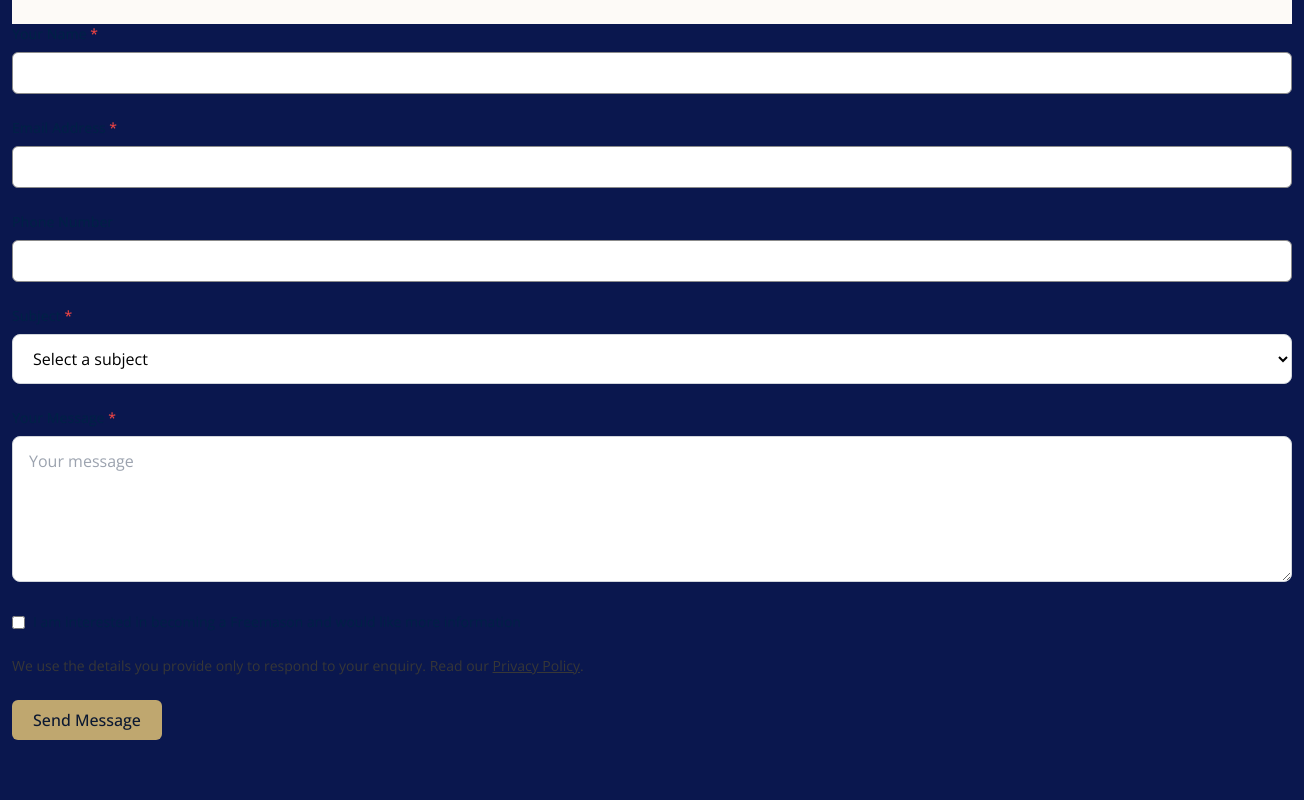
Test: ContactForm › submits form and shows success message
Type "John Doe" into the field labelled "Your Name *". click: (652, 73)
box: 12,52 -> 1292,94
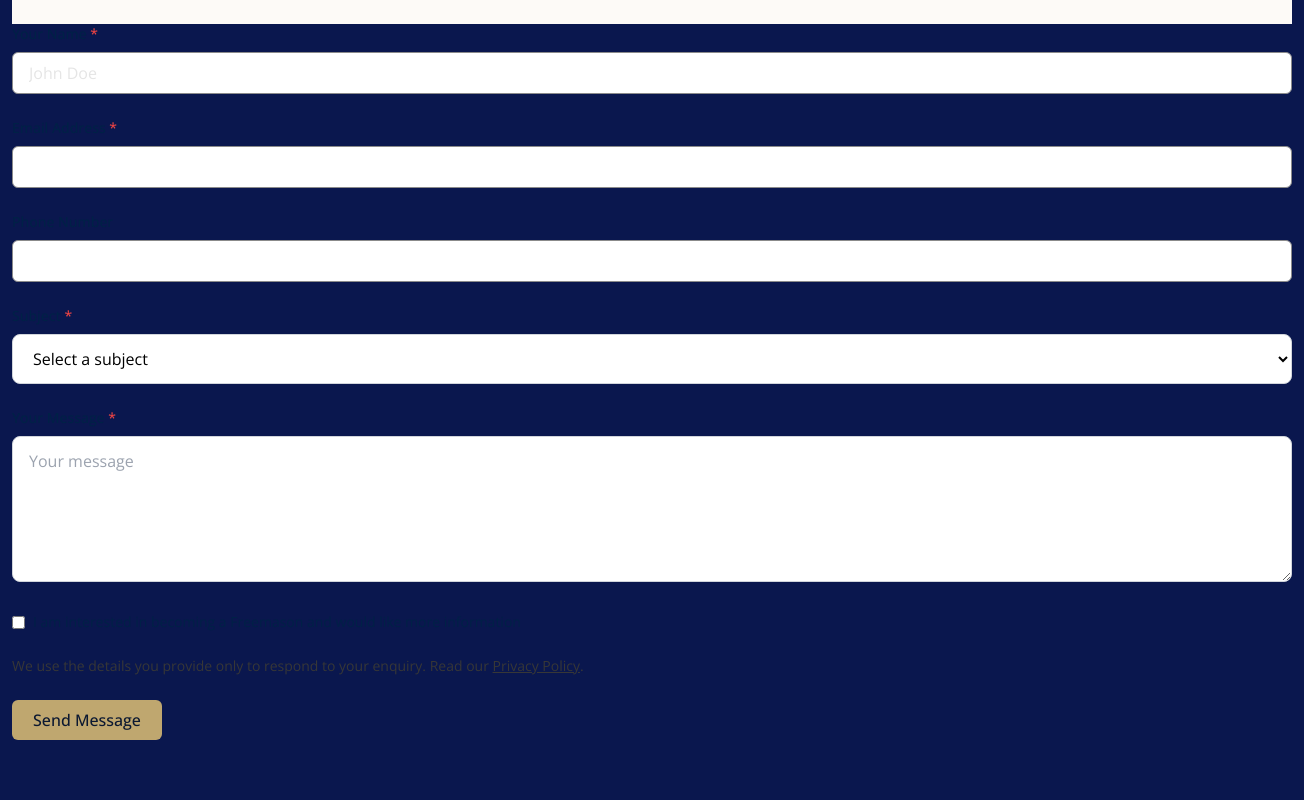
Type "john@example.com" into the field labelled "Email Address *". click: (652, 167)
box: 12,146 -> 1292,188
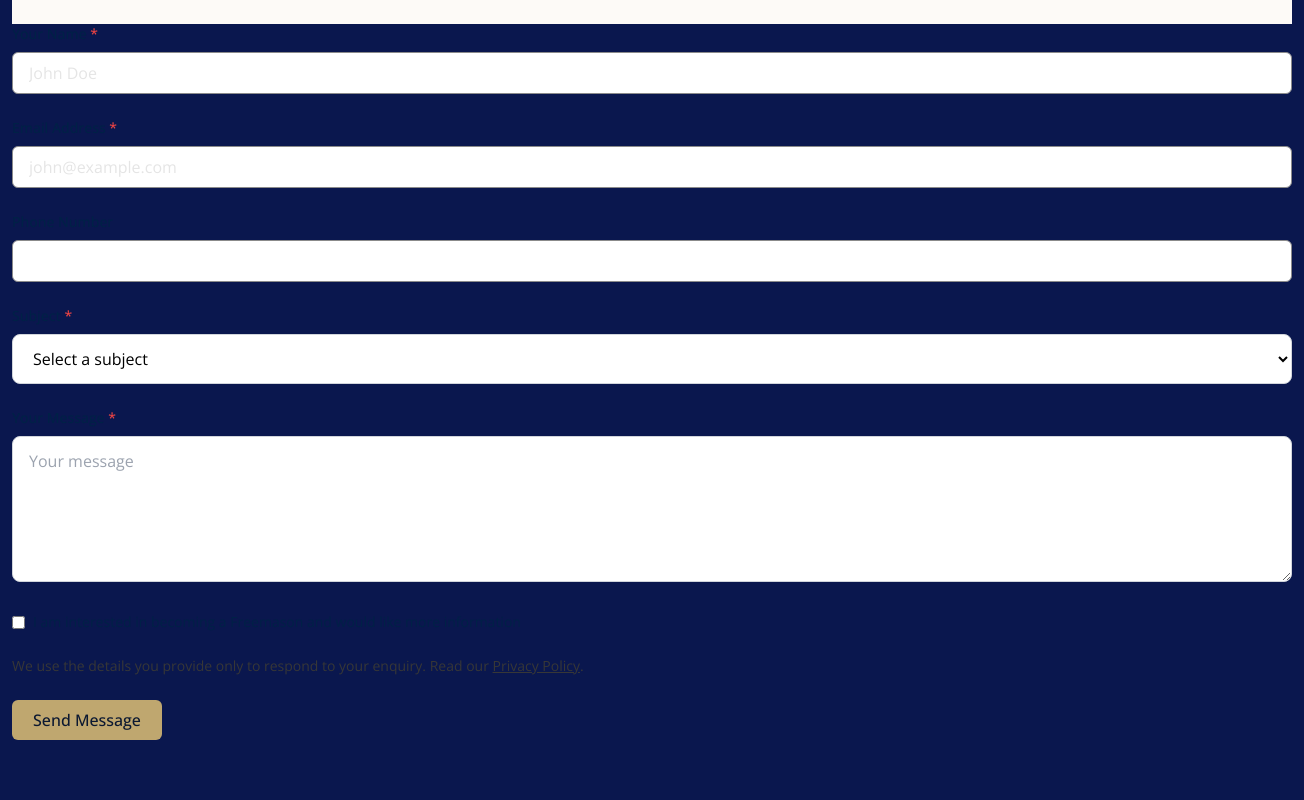
Select "General Enquiry" in the dropdown labelled "Subject *". click: (652, 359)
box: 12,334 -> 1292,384
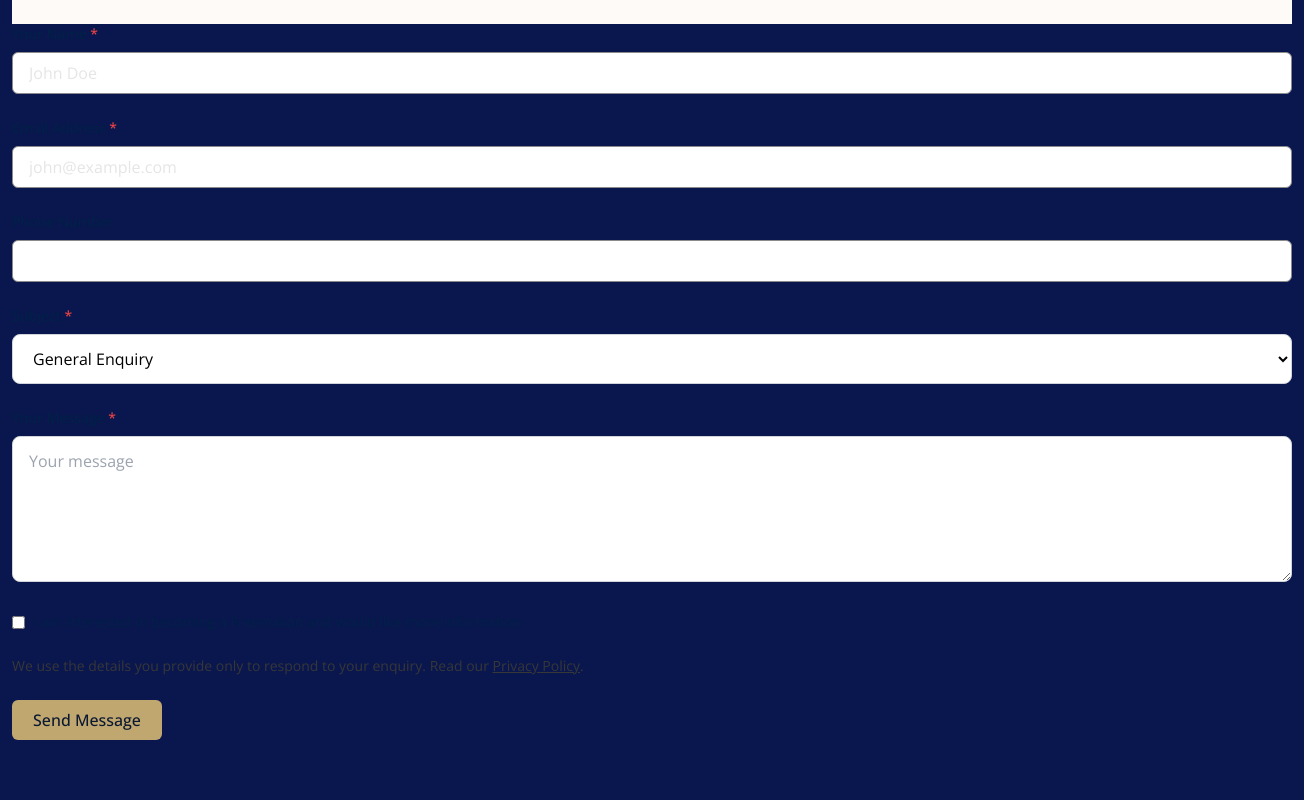
Type "Hello there!" into the text box labelled "Your Message *". click: (652, 509)
box: 12,436 -> 1292,582
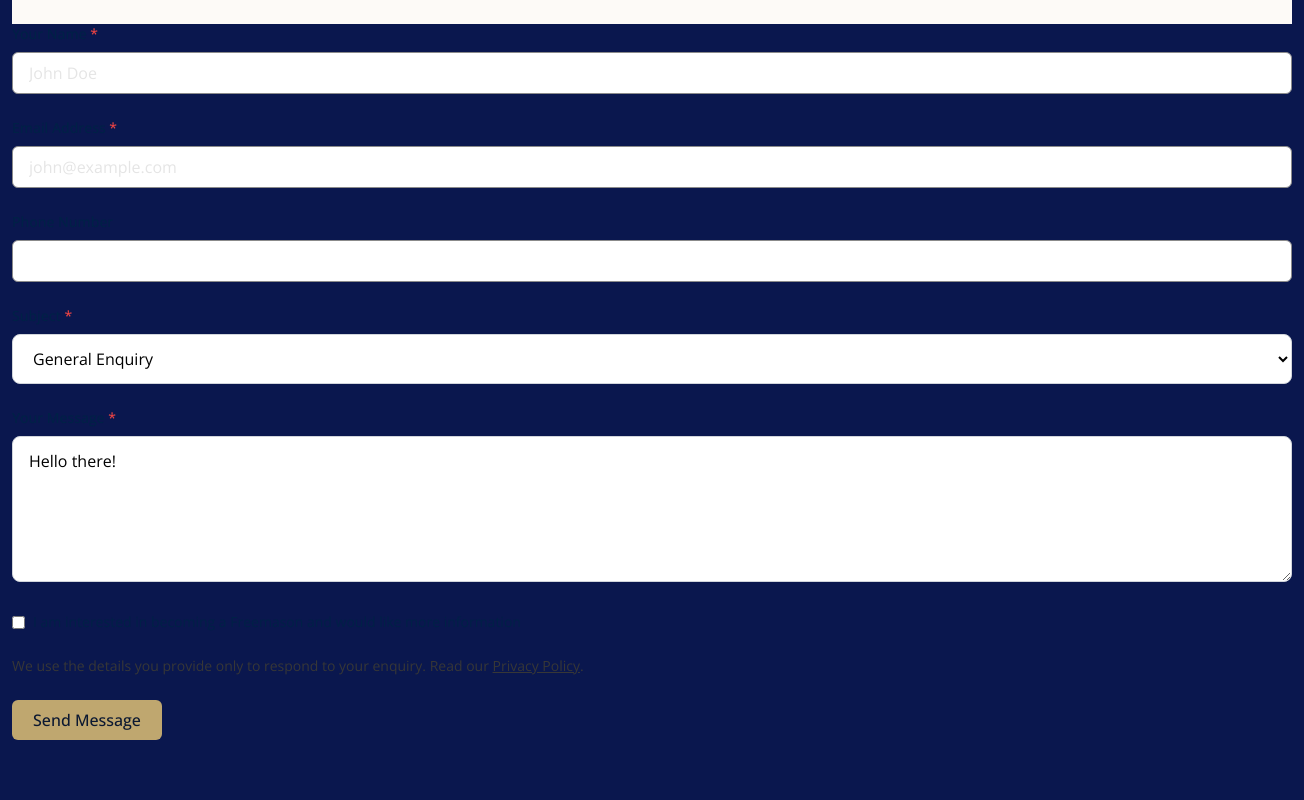
Click the button "Send Message". click: (87, 720)
box: 12,700 -> 162,740
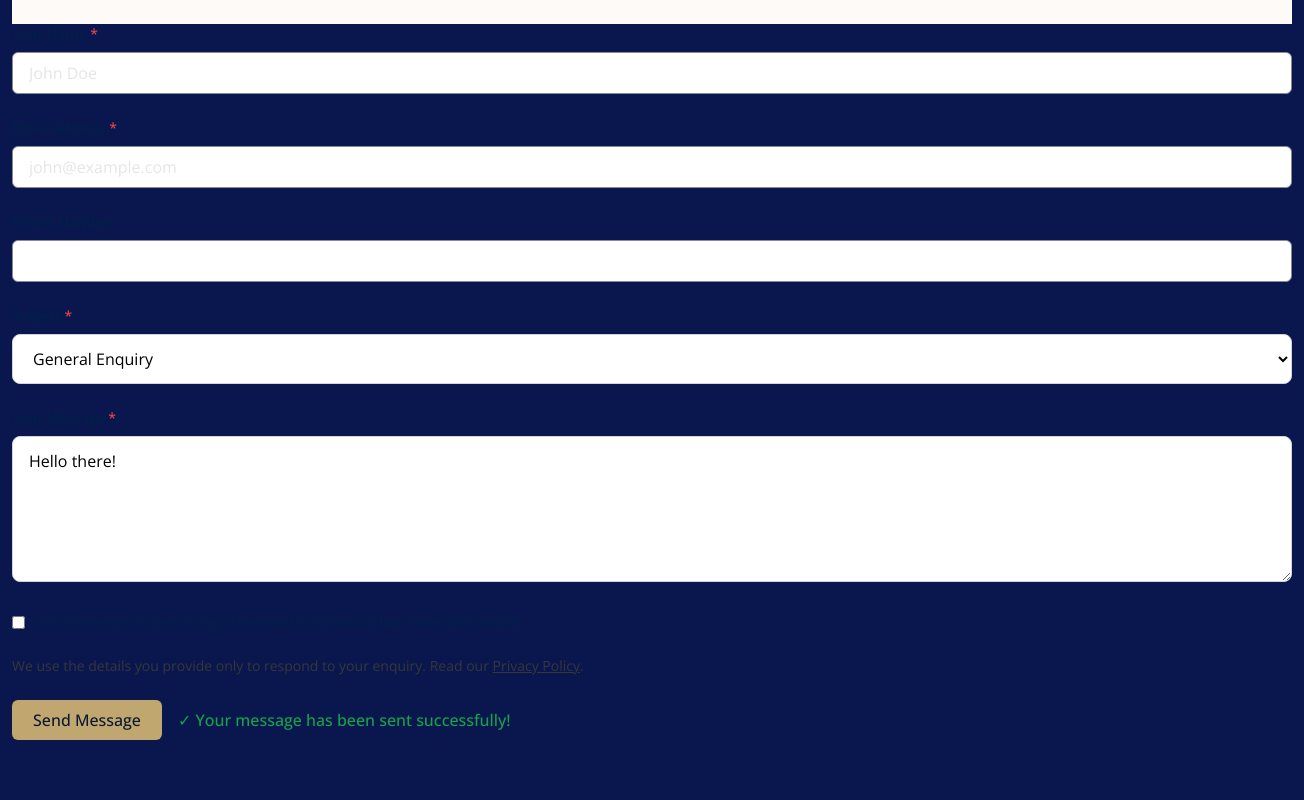
Check: the text "✓ Your message has been sent successfully!" is shown, box 178,708 -> 511,732
